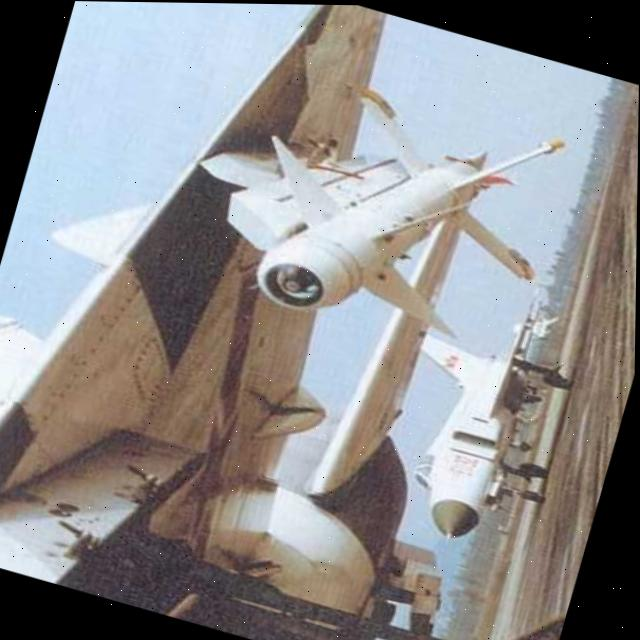missile: (225, 61, 576, 365)
